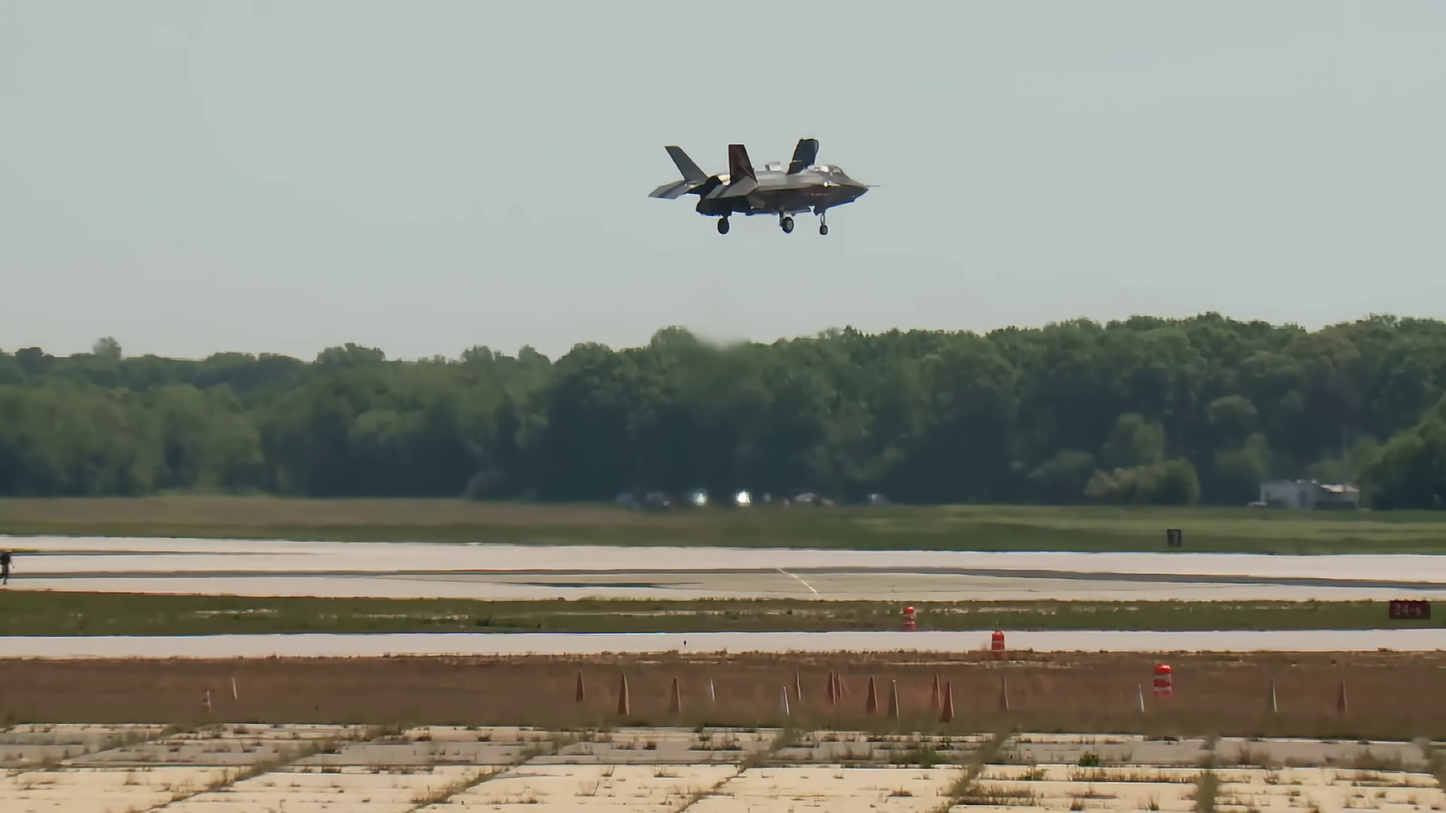F35: (643, 130, 883, 246)
